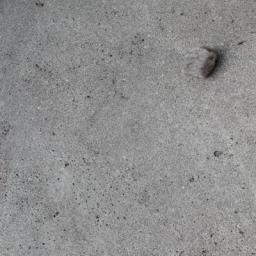FOD: (177, 41, 221, 87)
